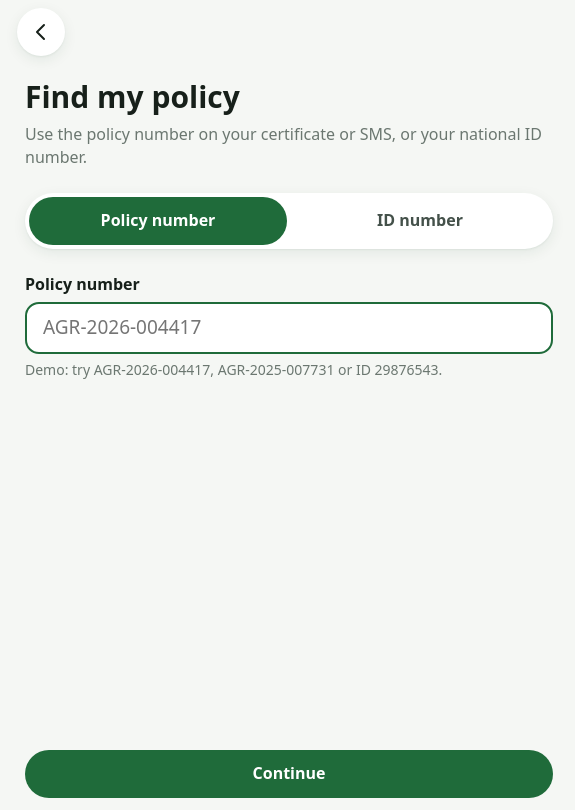
Test: an empty box asks for a number
Click the button "Continue": (289, 774) [25,750,553,798]
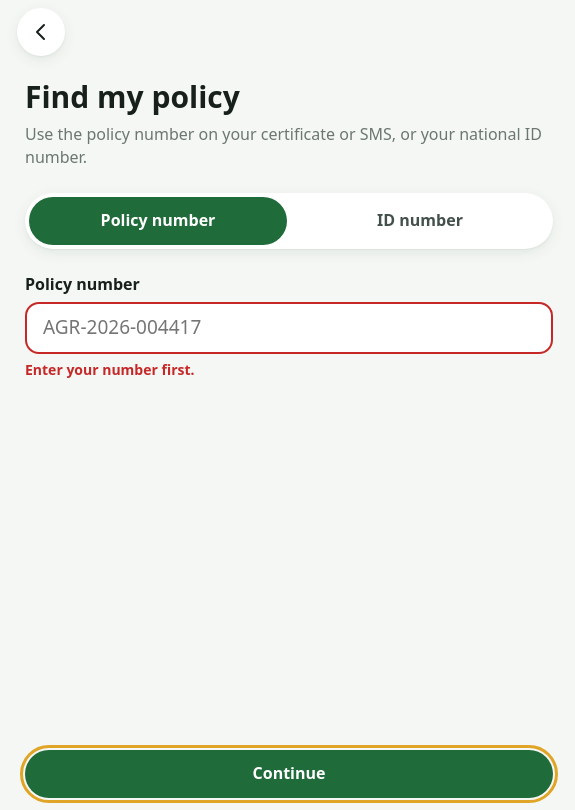
Expected: the message reads "Enter your number first.", [25,360,195,379]
